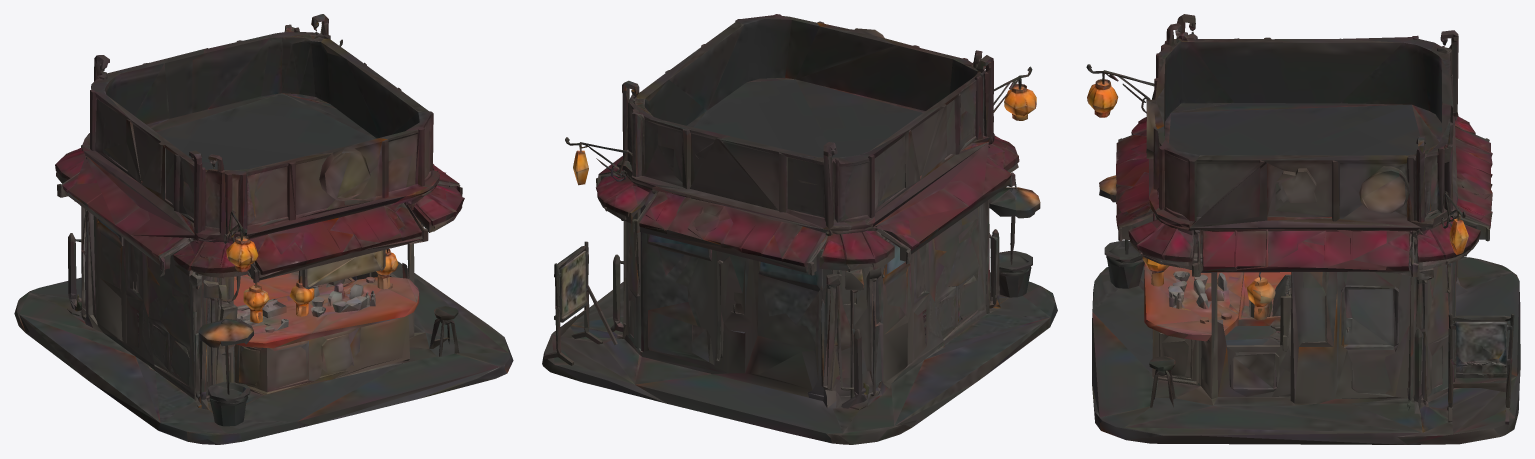
Rendered from mx_bld_noodle_bar.glb.
3 renders of one model, left to right at view 1: azimuth 30°, elevation 25°; view 2: azimuth 150°, elevation 25°; view 3: azimuth 270°, elevation 25°, orthographic. The views are drawn at different scales.
Size of the model in its own units: 1.88 by 1.33 by 1.9.
Materials: 1 (1 with a texture image).
